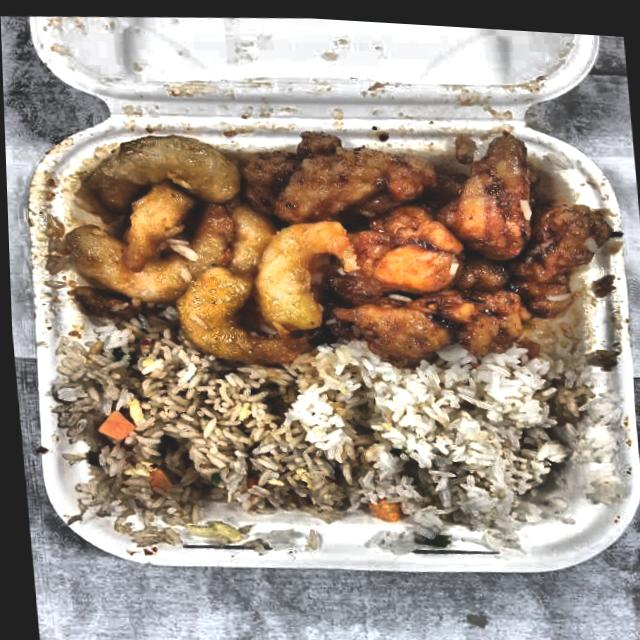Food: (246, 100, 625, 388), (50, 326, 411, 557), (31, 106, 360, 359), (374, 327, 628, 541)
